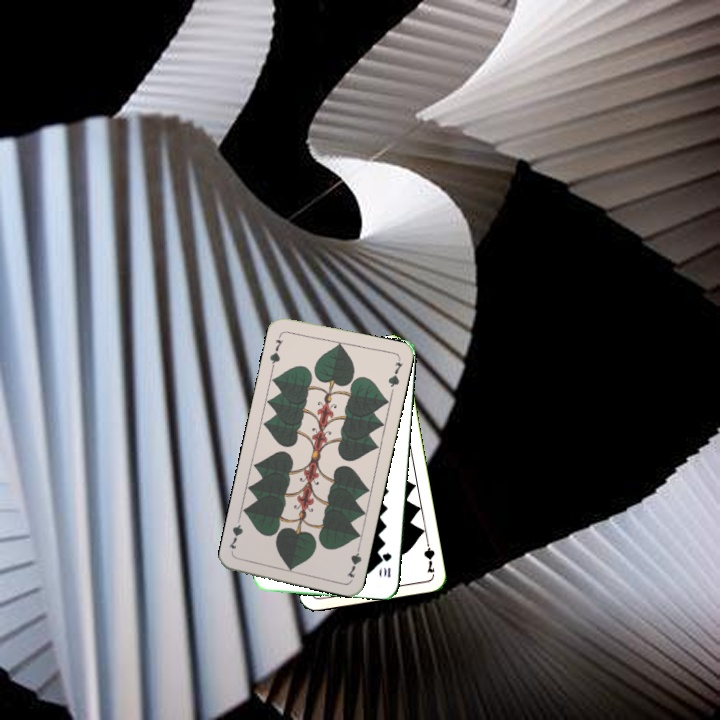G10: (378, 549, 394, 580)
G7: (266, 330, 286, 371), (343, 541, 364, 580), (420, 535, 437, 575)
